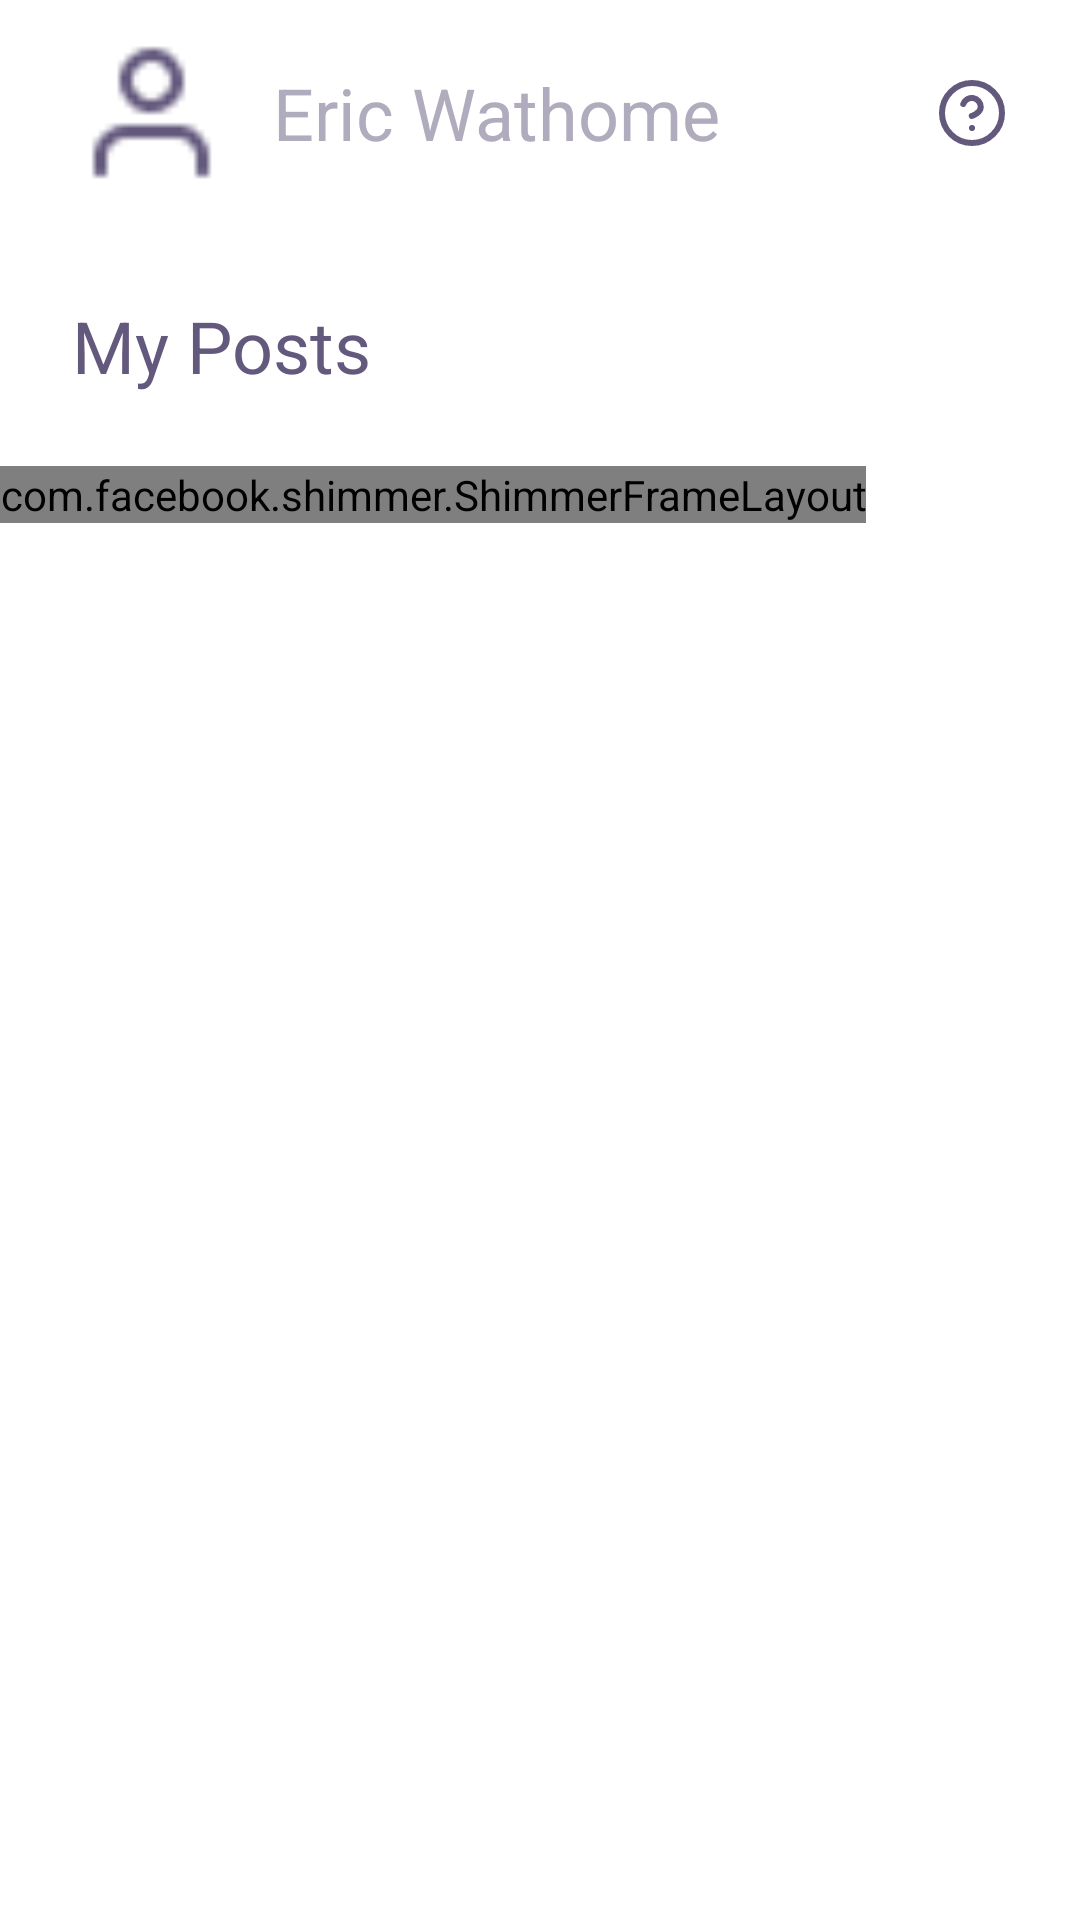

Screen size 1080 x 1920. Icon name, then its box in pixels as (x1, y1, x2, y2):
help circle: (939, 80, 1005, 146)
user: (92, 46, 211, 178)
